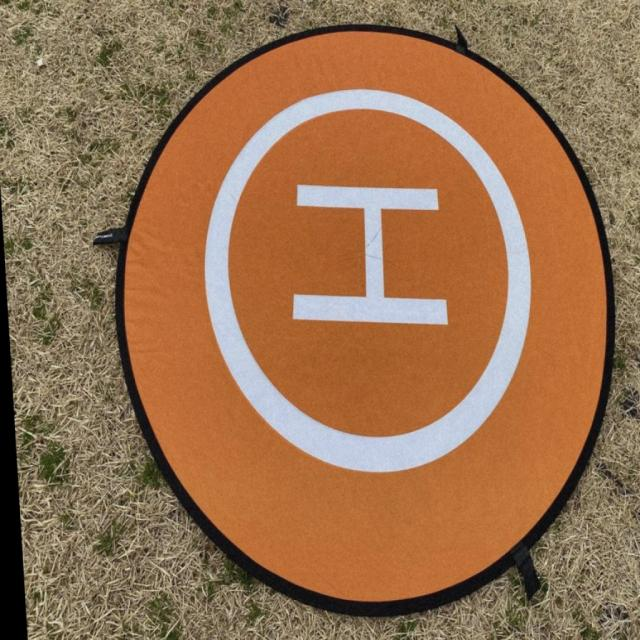helipad: (197, 84, 536, 481)
